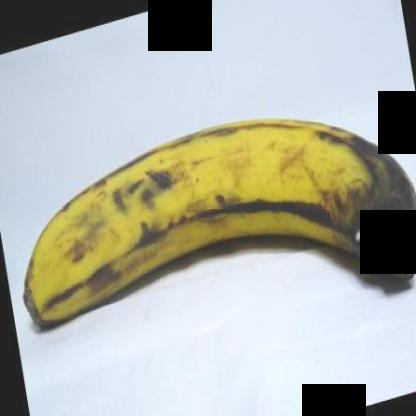overripe: (19, 99, 415, 352)
rotten: (314, 131, 416, 280)
